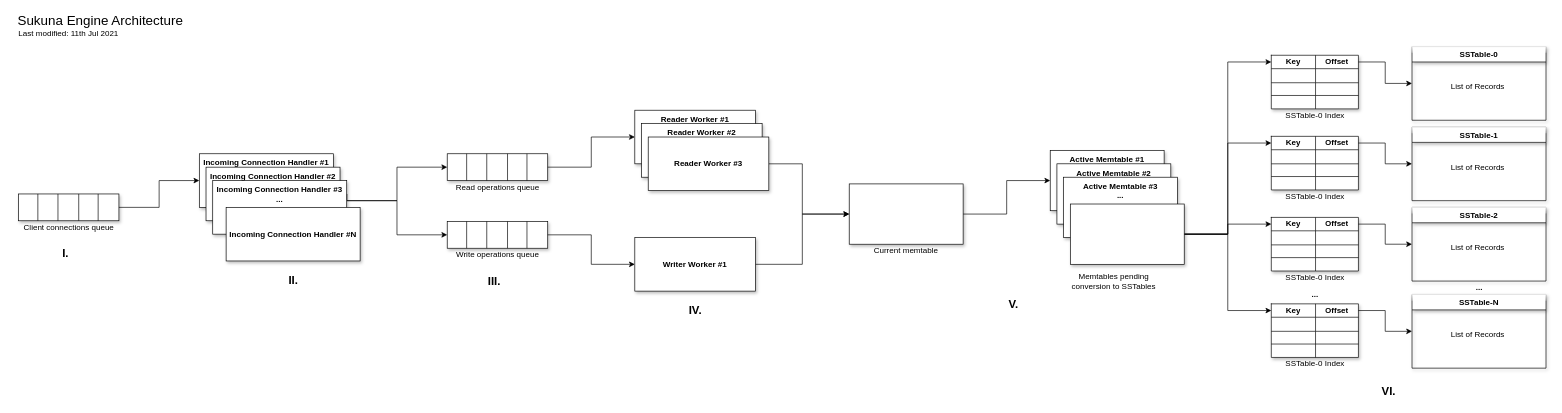
This 1562x413 diagram has some shape labels left out. The shapes that lost their labels are listed below. From the top down, each one's centre as x and y in pixels, then its label:
At (906,215): "Active Memtable #0".
At (1127,235): "Active Memtable #N".
